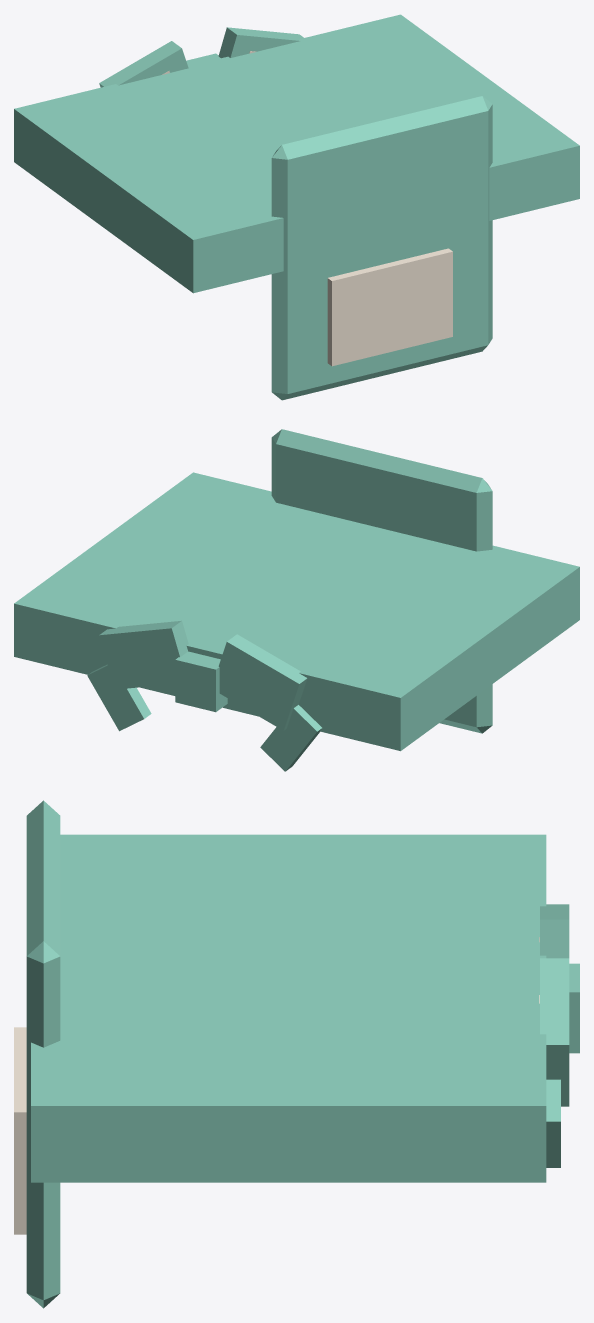
The model's file is CatCafe_Accessory_Apron.fbx.
The picture shows the model from 3 angles, top to bottom: view 1: azimuth 30°, elevation 25°; view 2: azimuth 150°, elevation 25°; view 3: azimuth 270°, elevation 25°; orthographic projection. The views are drawn at different scales.
Parts seen in each view (by area): view 1: CatCafe_Accessory_Apron; view 2: CatCafe_Accessory_Apron; view 3: CatCafe_Accessory_Apron.
Part boxes in pixels (x1,y1,x2,y2): CatCafe_Accessory_Apron: (14, 14, 579, 400); CatCafe_Accessory_Apron: (14, 429, 579, 771); CatCafe_Accessory_Apron: (14, 800, 579, 1308).
Bounding box in the file's own units: 0.722 × 0.456 × 0.6365.
1 material, 1 textured.
